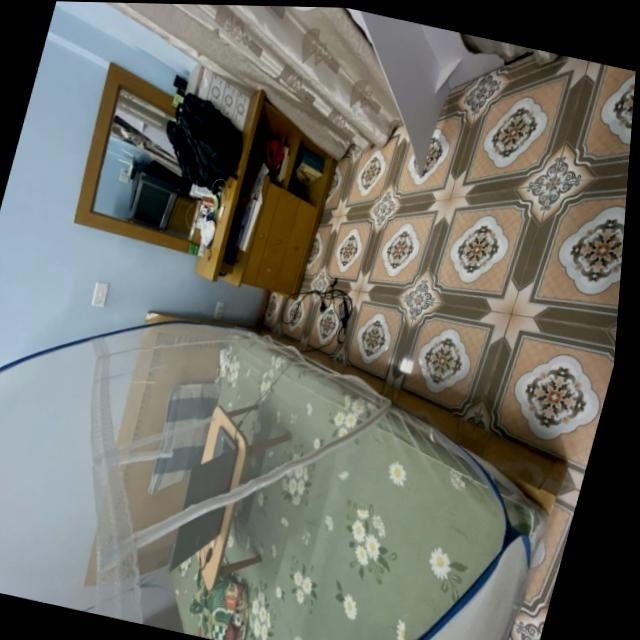outlet: (212, 300, 227, 320)
